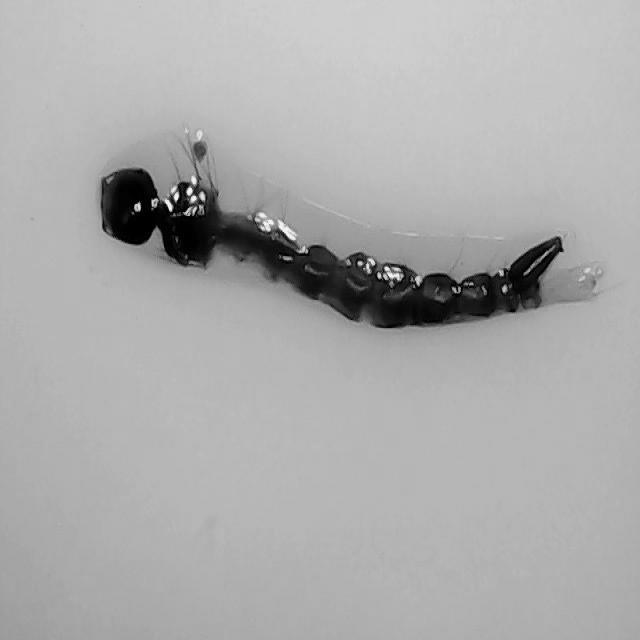larvas: (103, 160, 567, 332)
